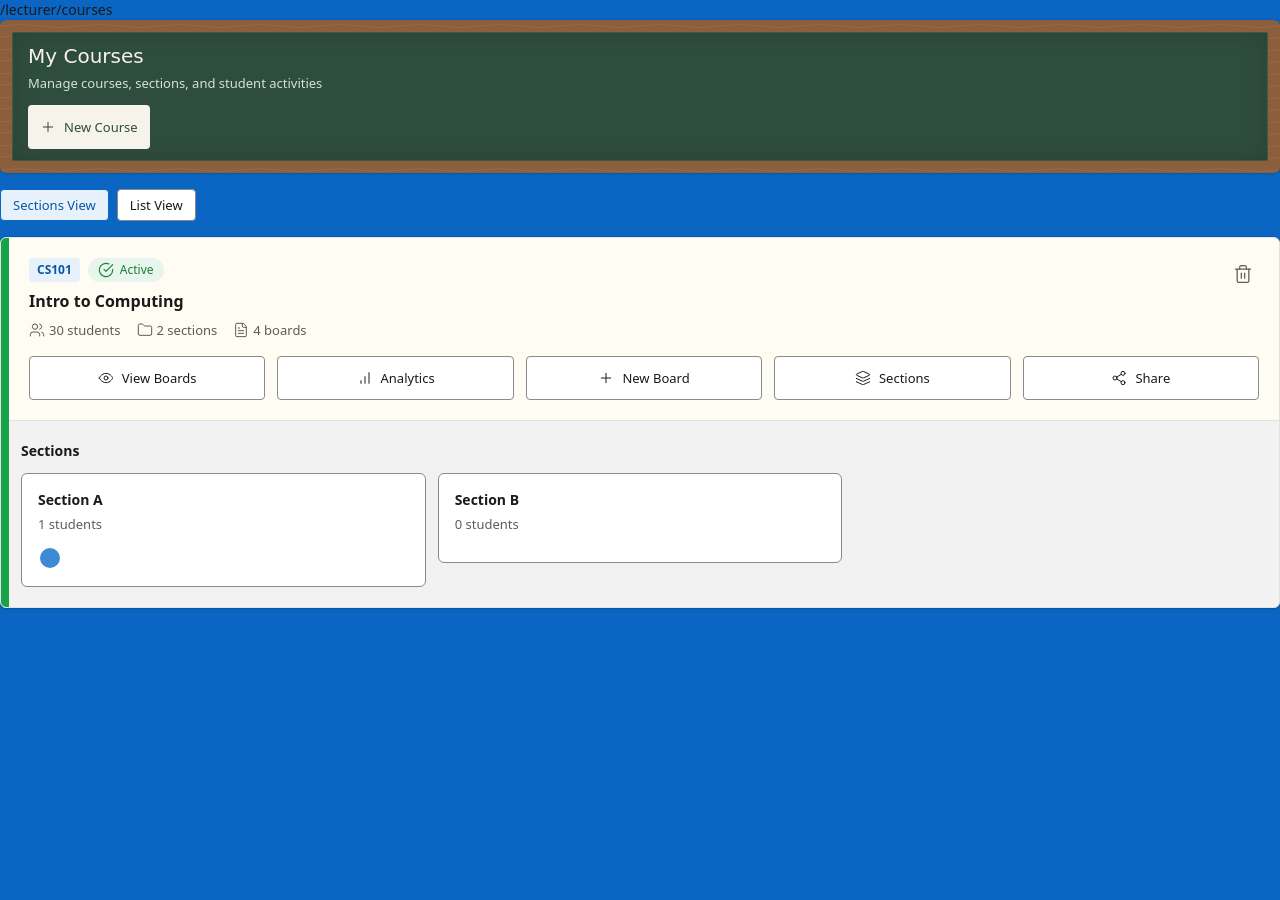
it: LecturerCoursesPage › a section with enrolled students cannot be removed and says why
The width and height of the screenshot is (1280, 900).
Click the button "Sections" at (892, 378), box [774,356,1011,400]
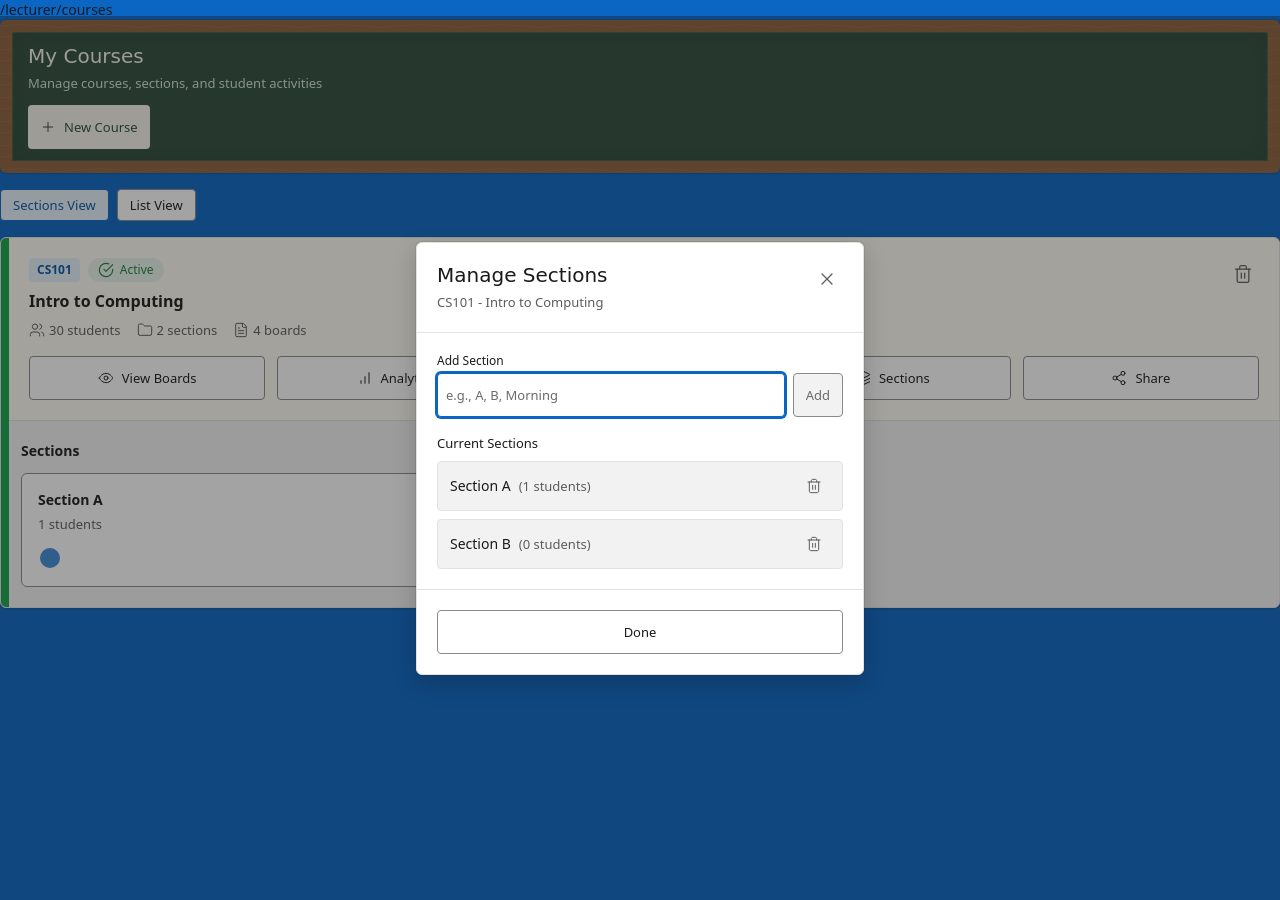
Click the button named "Cannot remove: has students" at (814, 486), box [798,470,830,502]
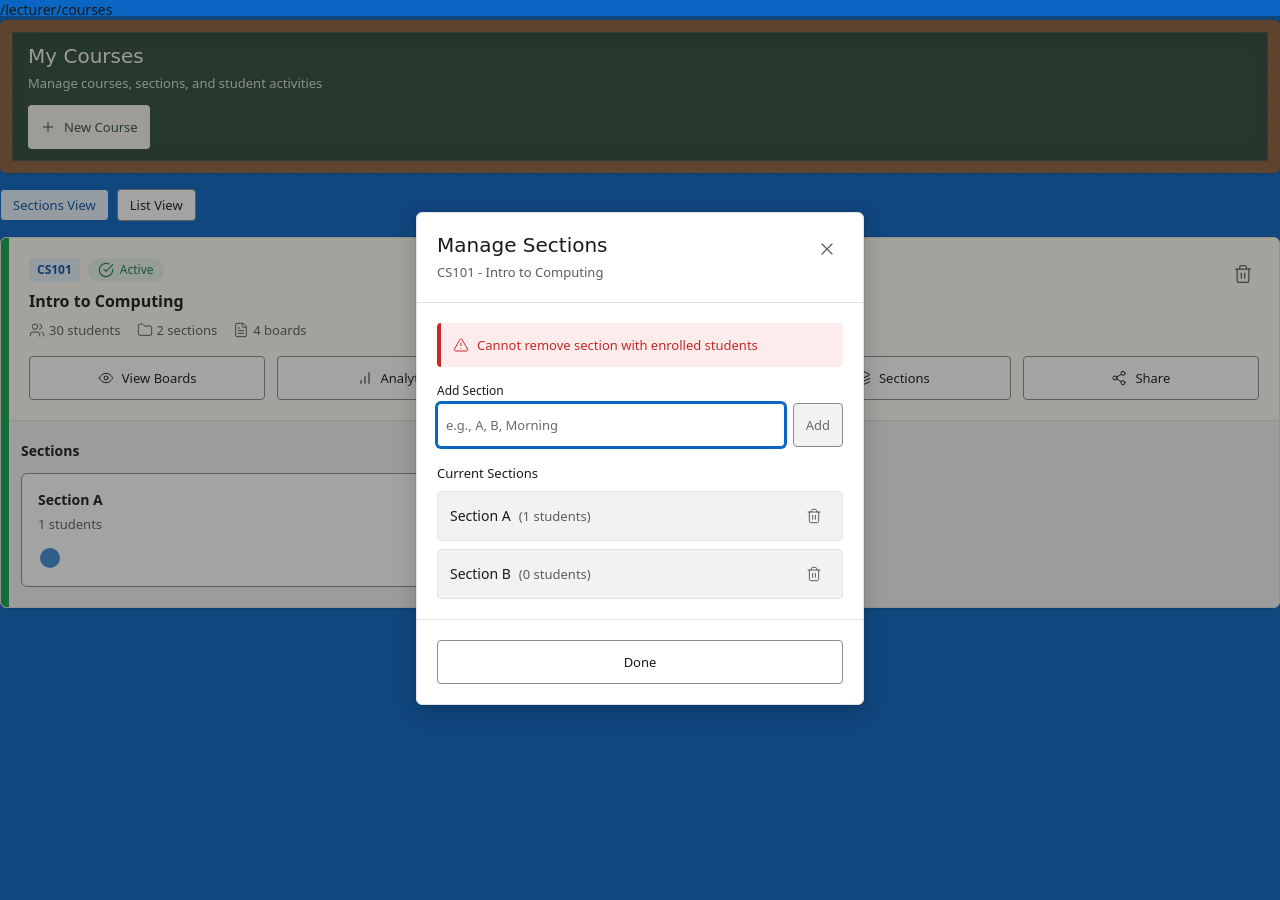
Expected: the message reads "Cannot remove section with enrolled students", [477,336,758,354]
